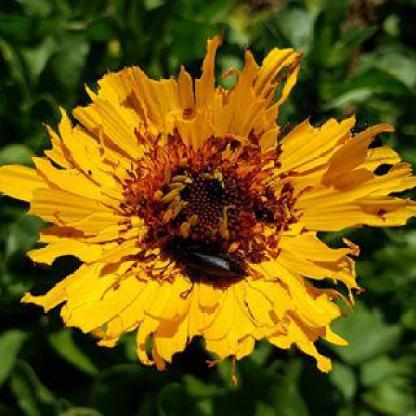beetle: (157, 227, 253, 297)
